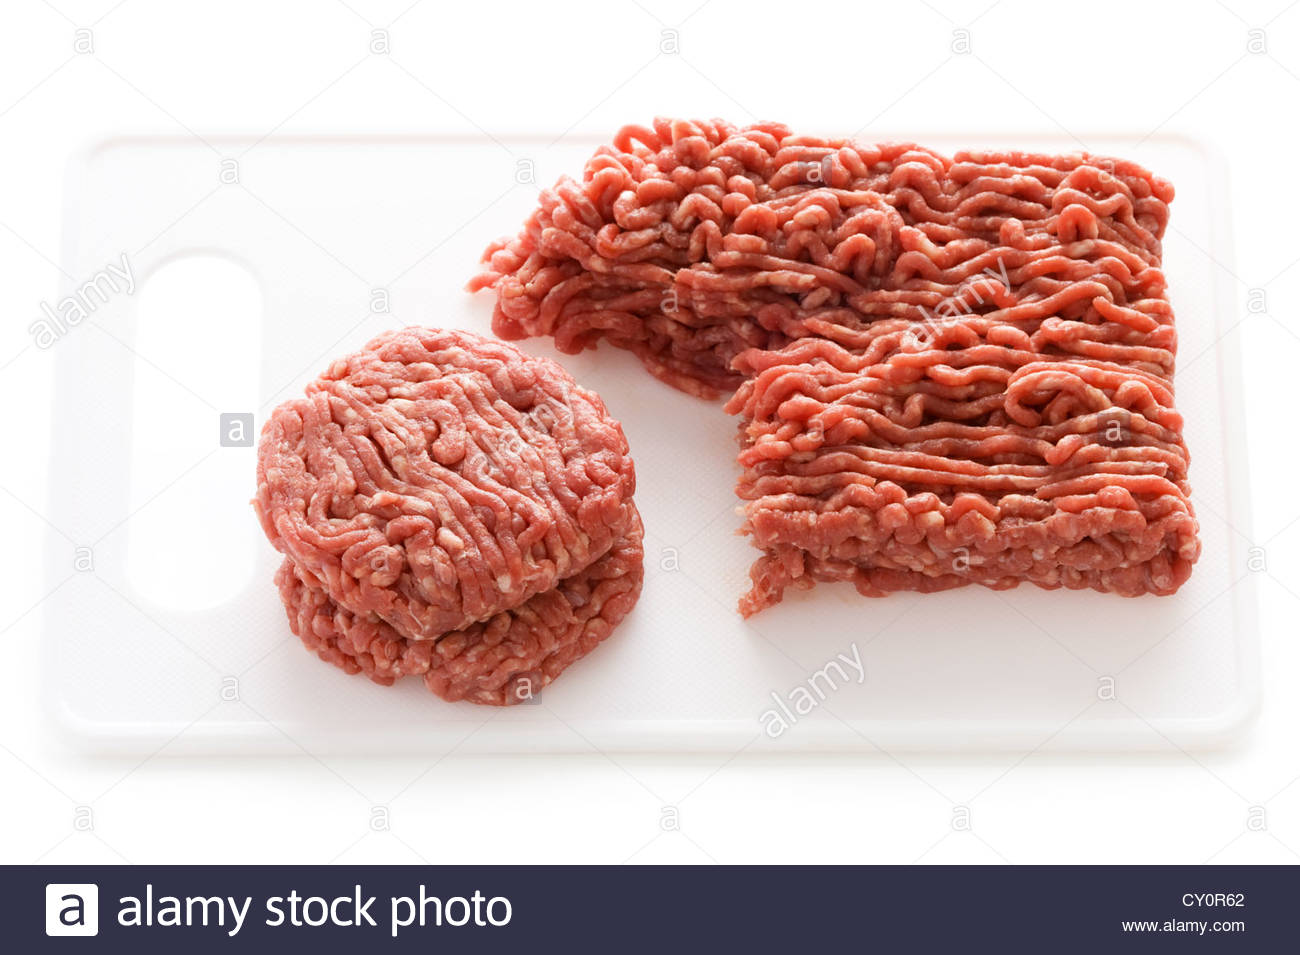ground_beef: (513, 151, 1198, 587), (259, 349, 685, 705)
